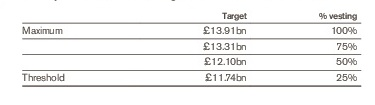table: (0, 0, 375, 105)
